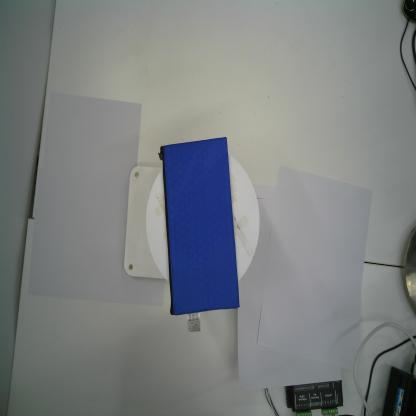Stationery: (158, 137, 241, 316)
